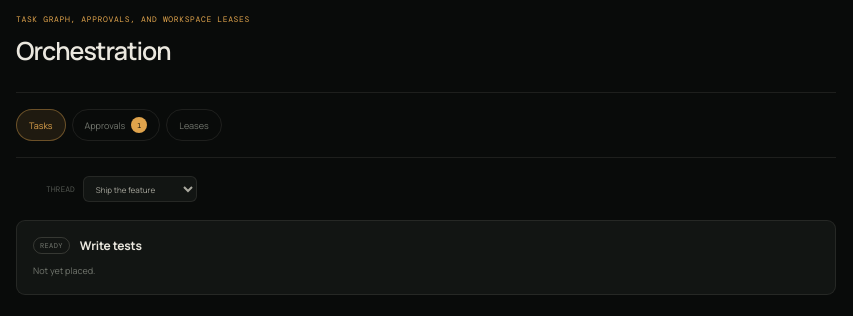
Test: OrchestrationView › defaults to the tasks tab and switches to approvals and leases
expect the heading "Write tests" is shown: met, box [80,237,142,254]
expect the text "1" is shown: met, box [131,117,147,133]
Click the tab "Approvals 1" at (116, 125), box [72,109,160,141]
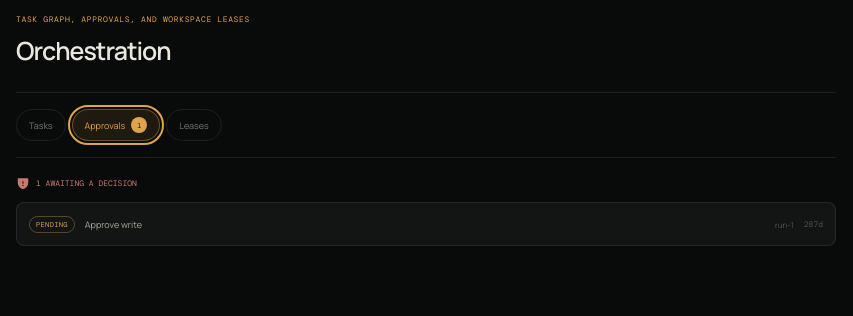
expect the text "Approve write" is shown: met, box [85,218,142,230]
Click the tab "Leases" at (194, 125), box [166,109,222,141]
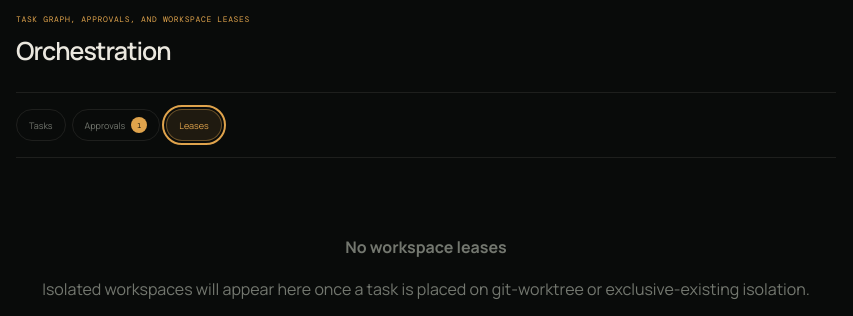
expect the text "No workspace leases" is shown: met, box [345,236,507,258]
